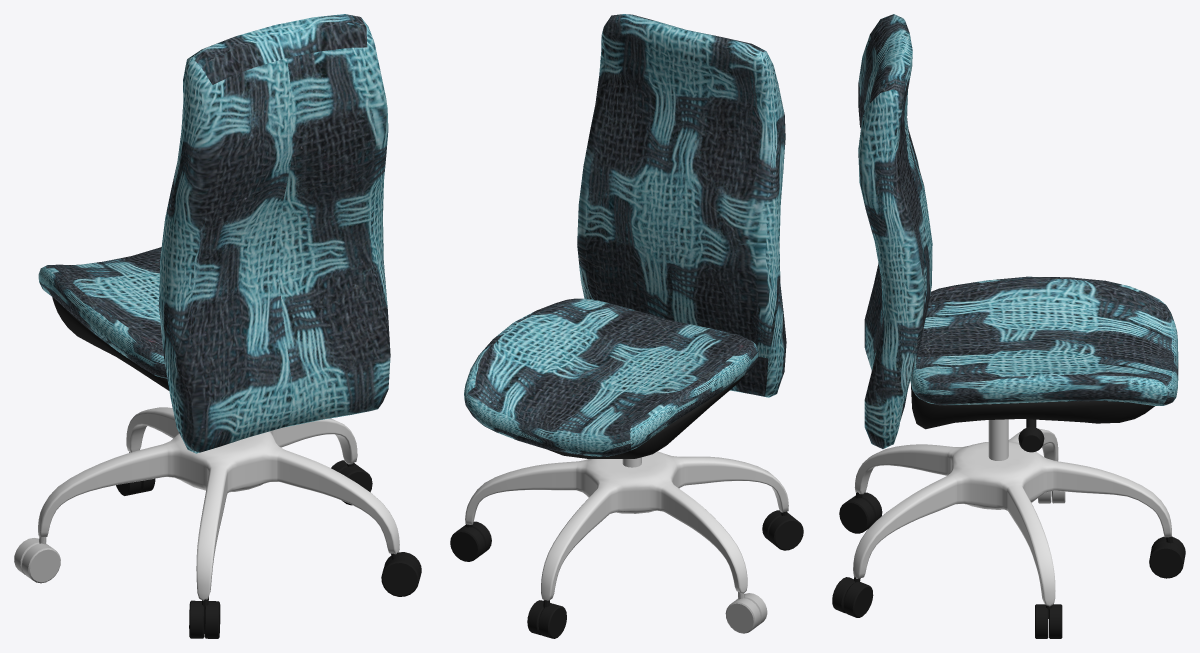
File: Chair.gltf
3 renders of one model, left to right at view 1: azimuth 30°, elevation 25°; view 2: azimuth 150°, elevation 25°; view 3: azimuth 270°, elevation 25°, orthographic. The views are drawn at different scales.
Parts seen in each view (by area): view 1: pCube5; view 2: pCube5; view 3: pCube5.
Boxes of the visible parts, bbox=[...] form: pCube5: bbox=[14, 14, 421, 638]; pCube5: bbox=[450, 14, 803, 638]; pCube5: bbox=[832, 14, 1185, 638].
Size of the model in its own units: 0.0293 by 0.0468 by 0.0285.
4 materials, 1 textured.
